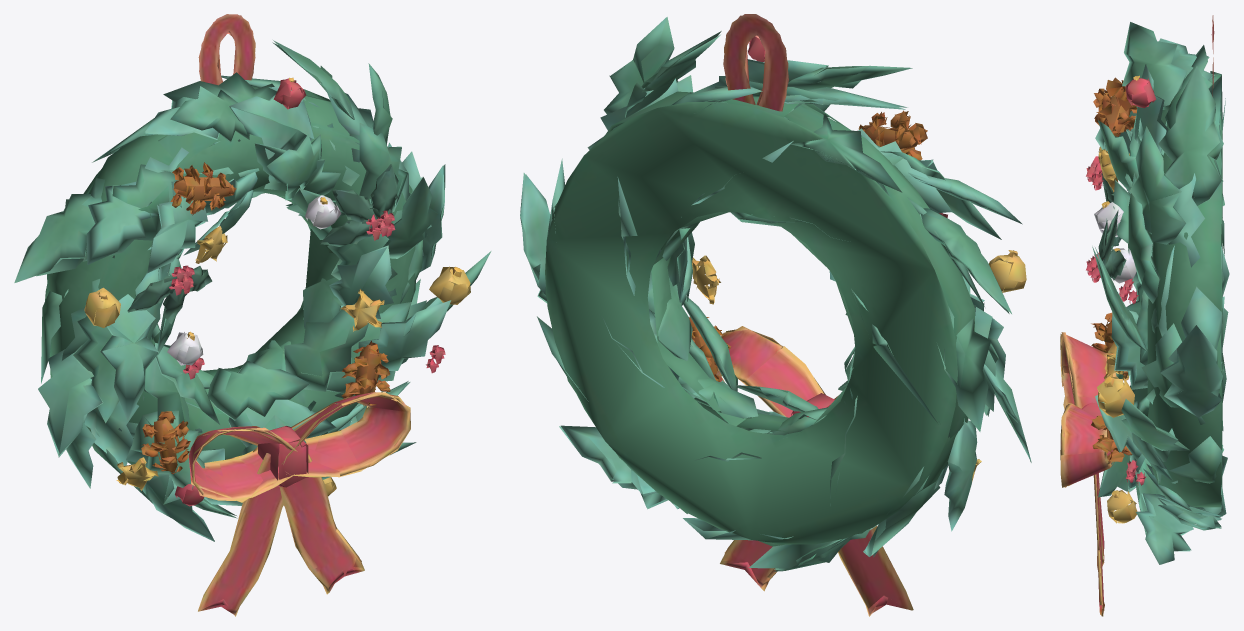
File: cascanueces.glb
3 renders of one model, left to right at view 1: azimuth 30°, elevation 25°; view 2: azimuth 150°, elevation 25°; view 3: azimuth 270°, elevation 25°, orthographic. The views are drawn at different scales.
Visible parts, largest first — view 1: christmas-wreath_body; view 2: christmas-wreath_body; view 3: christmas-wreath_body.
Boxes of the visible parts, x1,y1,x2,y2 form: christmas-wreath_body: (14, 14, 491, 616); christmas-wreath_body: (520, 14, 1031, 616); christmas-wreath_body: (1060, 15, 1229, 616).
Bounding box in the file's own units: 0.5808 × 0.6963 × 0.1864.
1 material, 1 textured.
